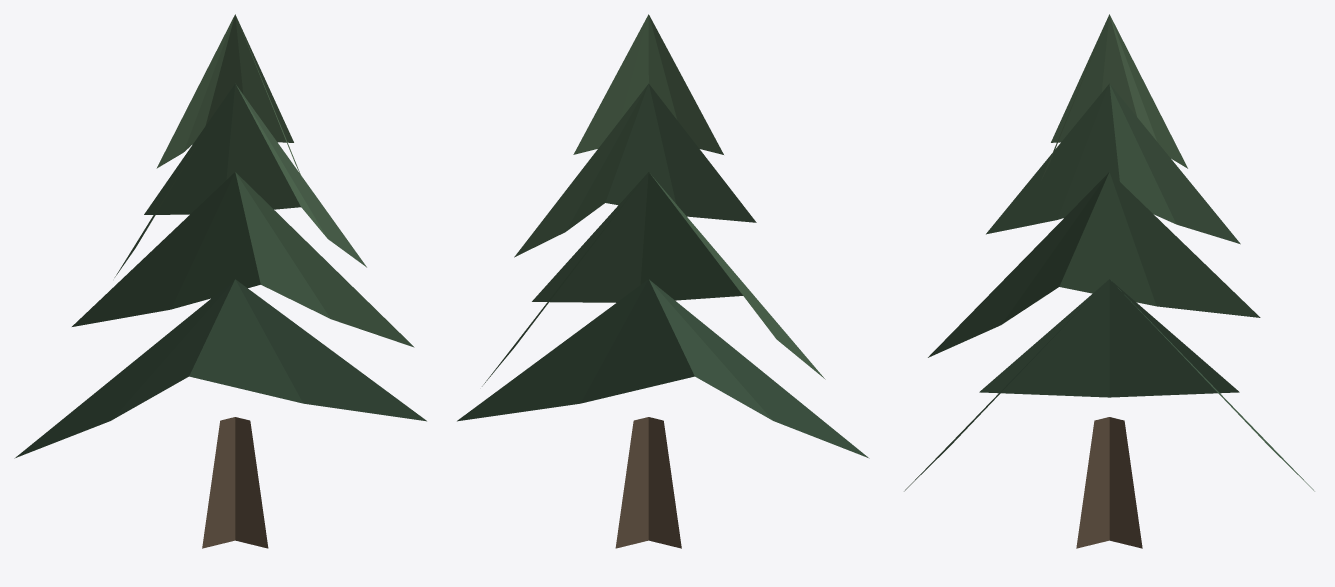
File: tree_alpine_spruce.glb
3 renders of one model, left to right at view 1: azimuth 30°, elevation 25°; view 2: azimuth 150°, elevation 25°; view 3: azimuth 270°, elevation 25°, orthographic.
Bounding box in the file's own units: 1.15 × 1.72 × 1.21.
